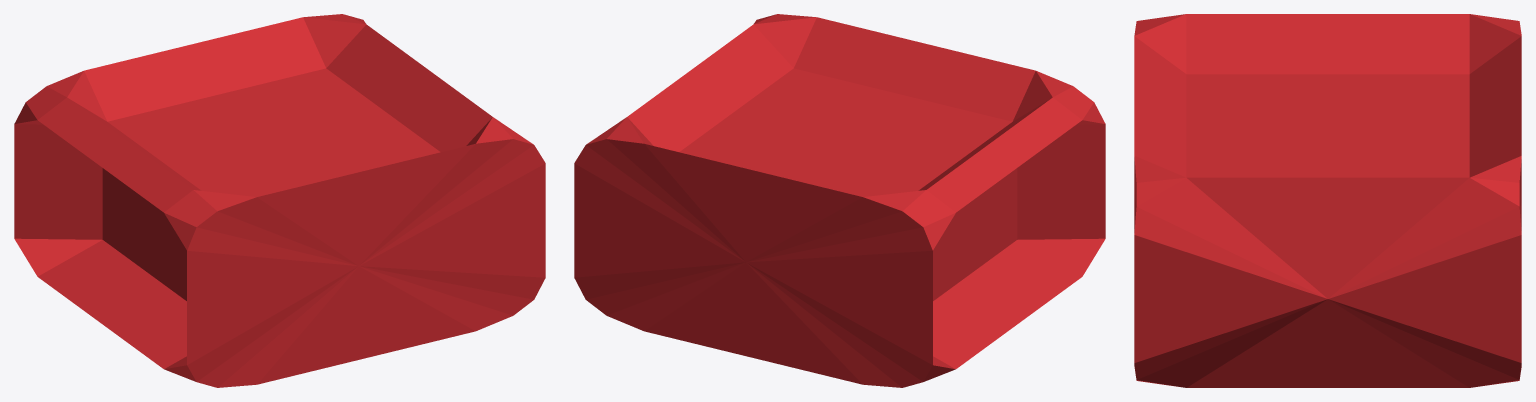
3 renders of one model, left to right at view 1: azimuth 30°, elevation 25°; view 2: azimuth 150°, elevation 25°; view 3: azimuth 270°, elevation 25°, orthographic. The views are drawn at different scales.
Parts seen in each view (by area): view 1: Box; view 2: Box; view 3: Box.
Part boxes in pixels (x1,y1,x2,y2): Box: (14,14,545,387); Box: (574,14,1105,387); Box: (1134,14,1521,387).
Size of what is drawn, in the model's own units: 830 by 415 by 693.
